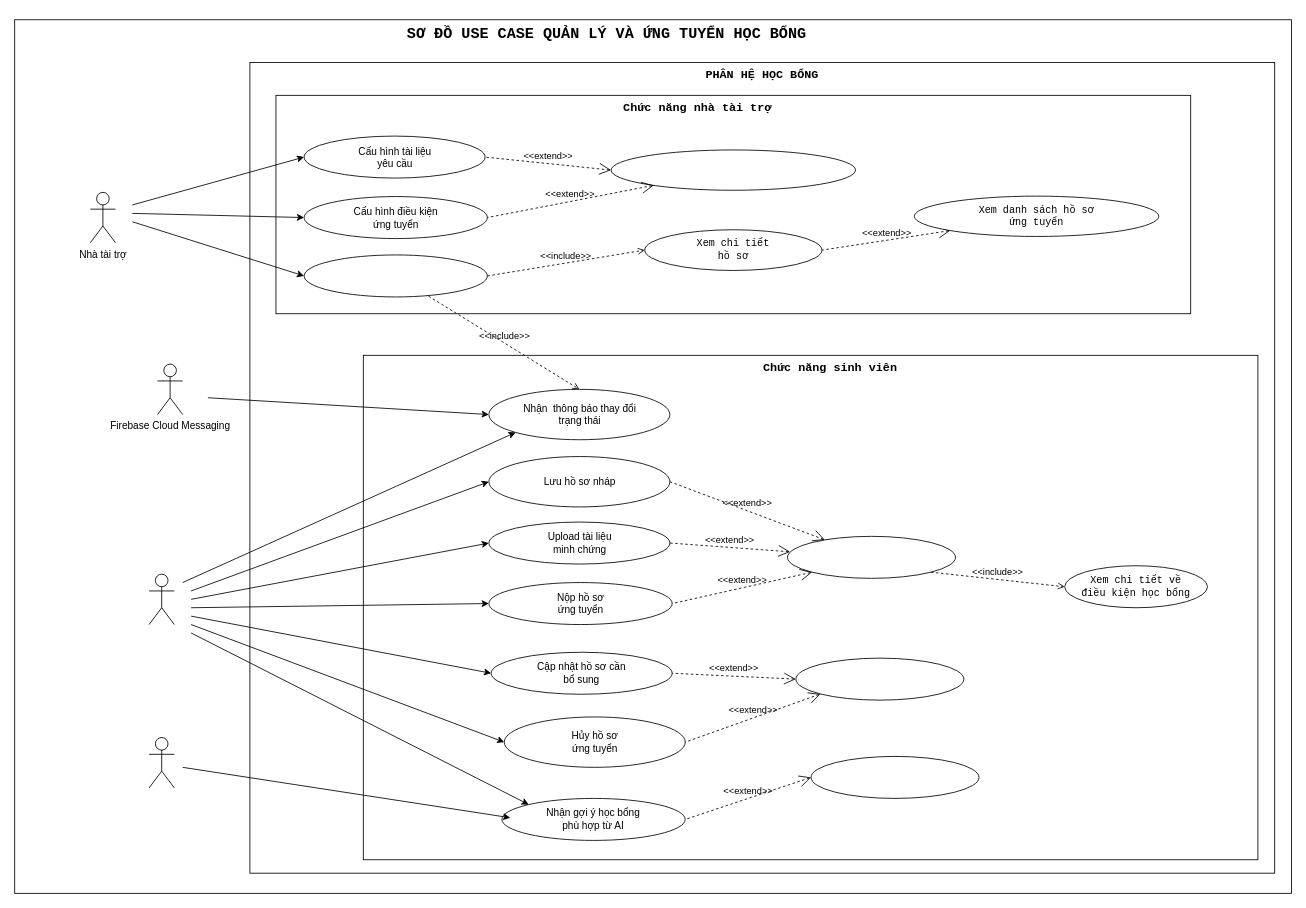
Some shapes in this 1306 by 908 pixel diagram are drawn without their labels. Each missing label, with the box of its shape:
AI services: (148, 737, 174, 788)
Chuẩn bị hồ sơ ứng tuyển: (787, 536, 956, 578)
Cập nhật trạng thái xét duyệt: (303, 254, 487, 297)
Quản lý chương trình học bổng: (610, 149, 856, 190)
Sinh viên: (148, 573, 174, 625)
Theo dõi trạng thái hồ sơ: (795, 657, 964, 700)
Xem danh sách học bổng: (810, 756, 979, 798)
